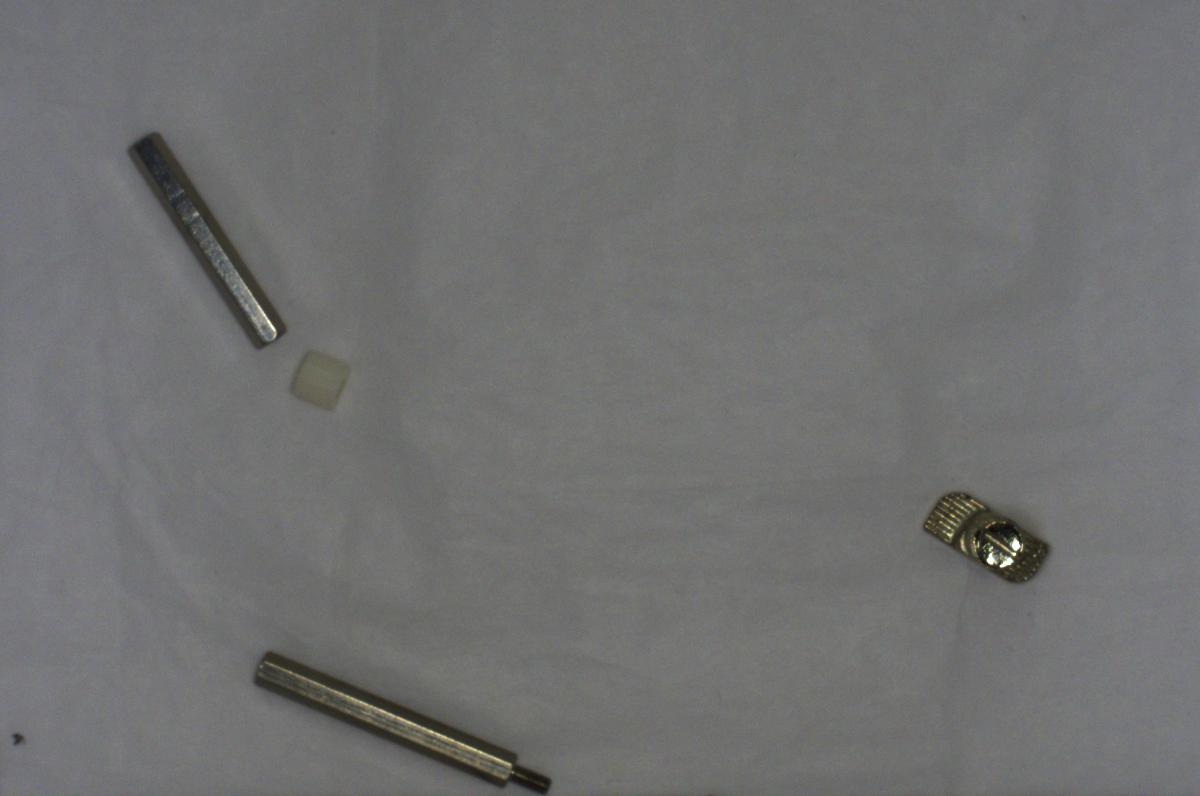Double hexagonal column: (125, 128, 288, 355)
Hexagonal steel column: (252, 650, 565, 792)
Plastic cushion pillar: (282, 345, 361, 416)
T-shaped screw: (914, 486, 1055, 590)
